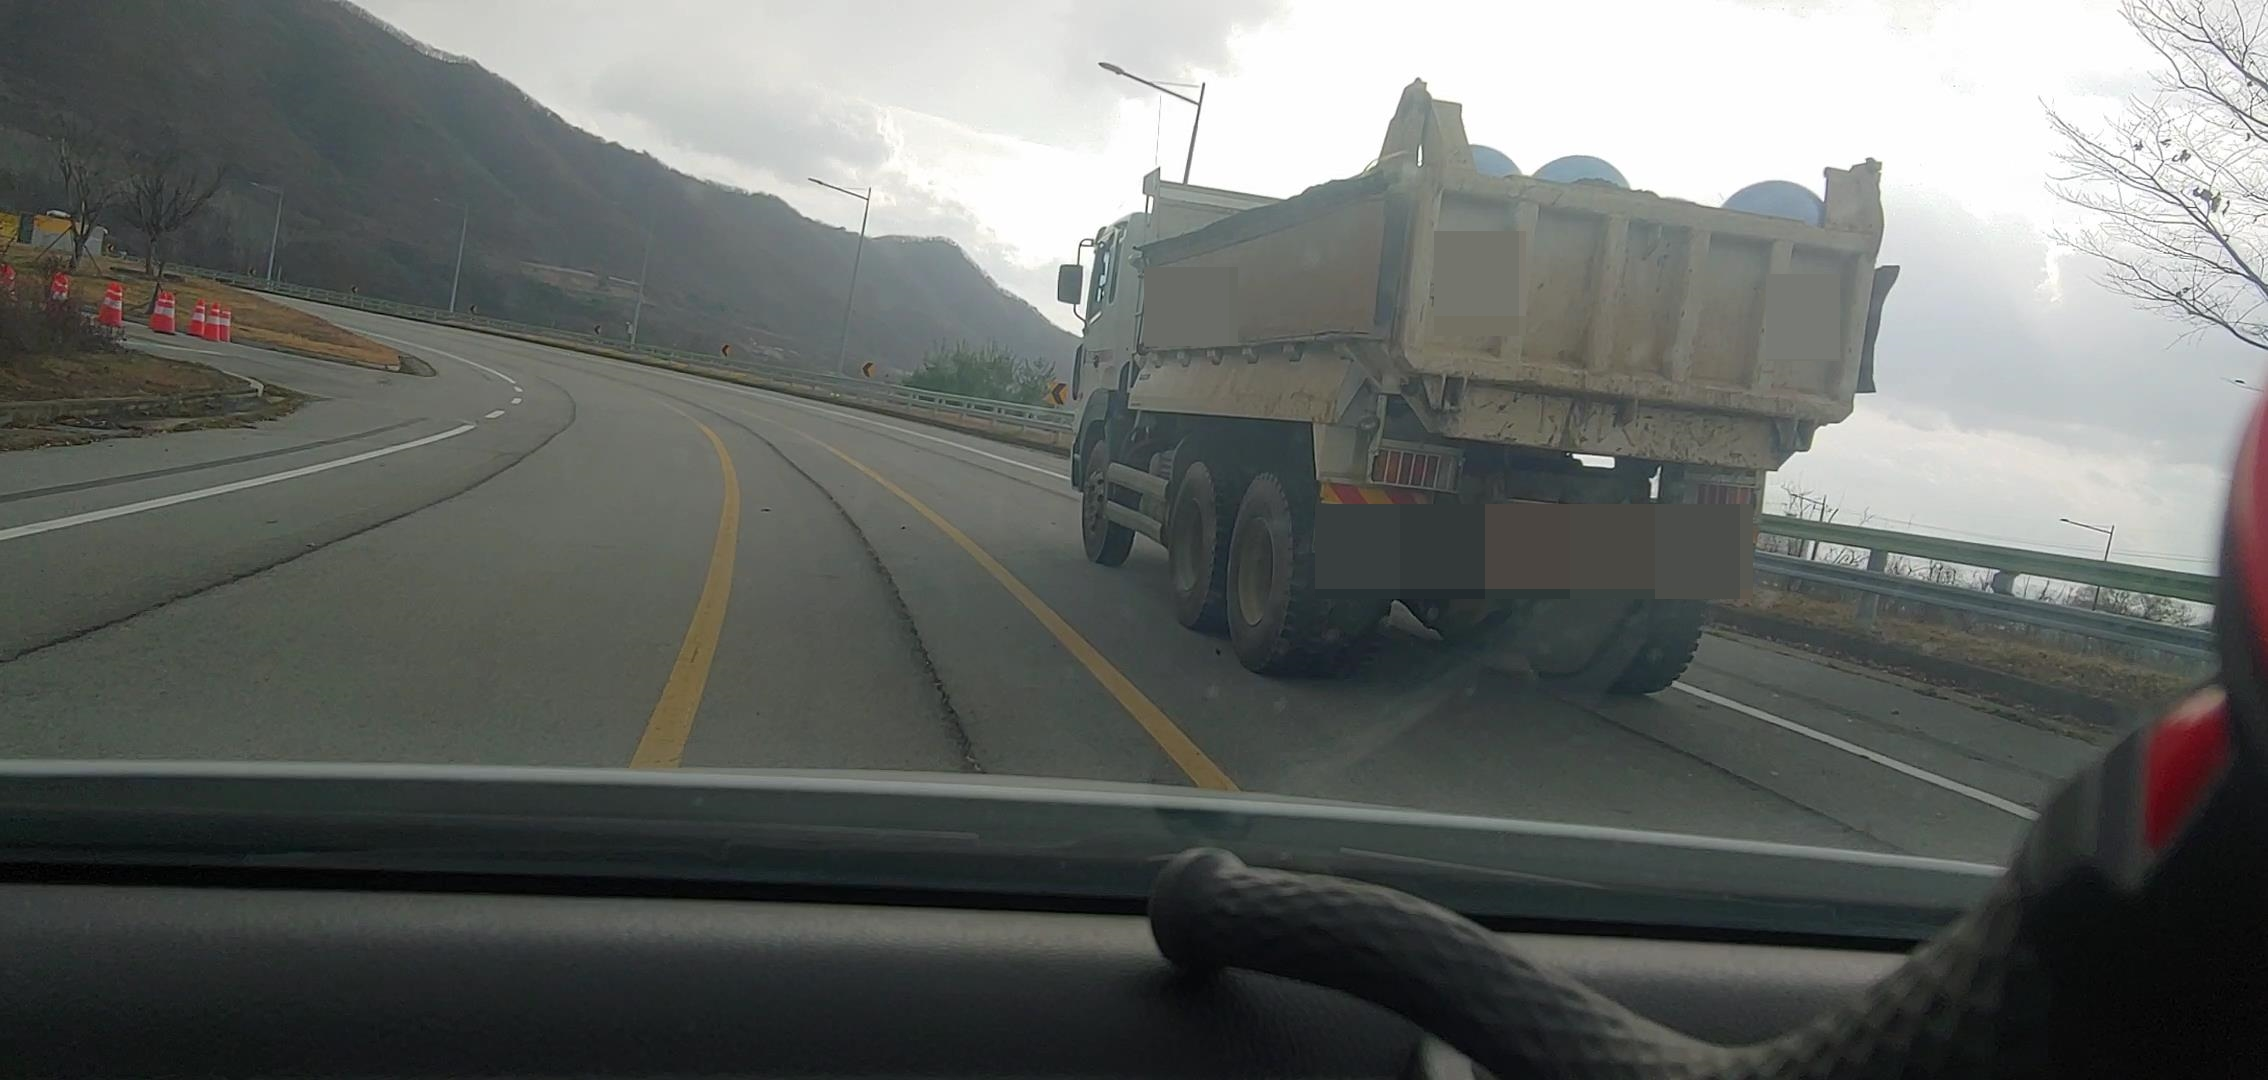불법차량: (1059, 78, 1899, 704)
